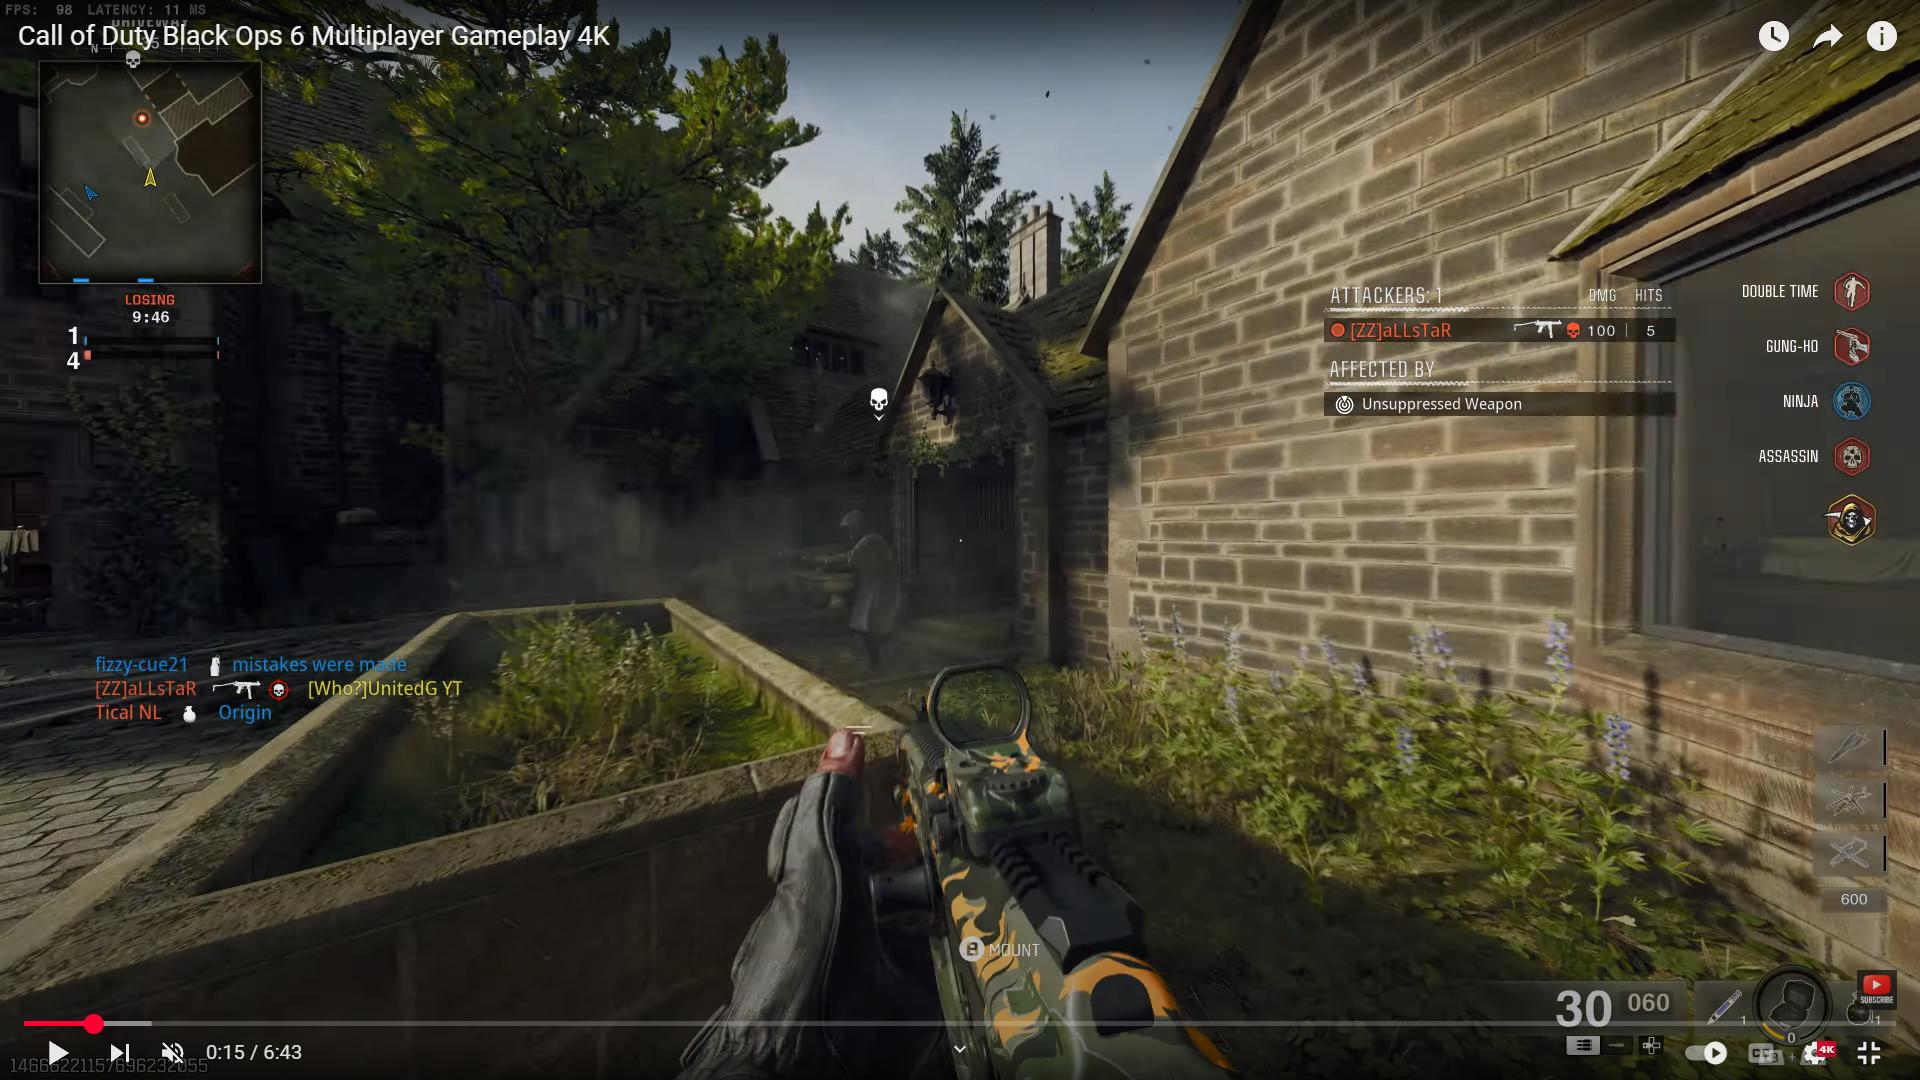Enemy: (794, 500, 930, 658)
